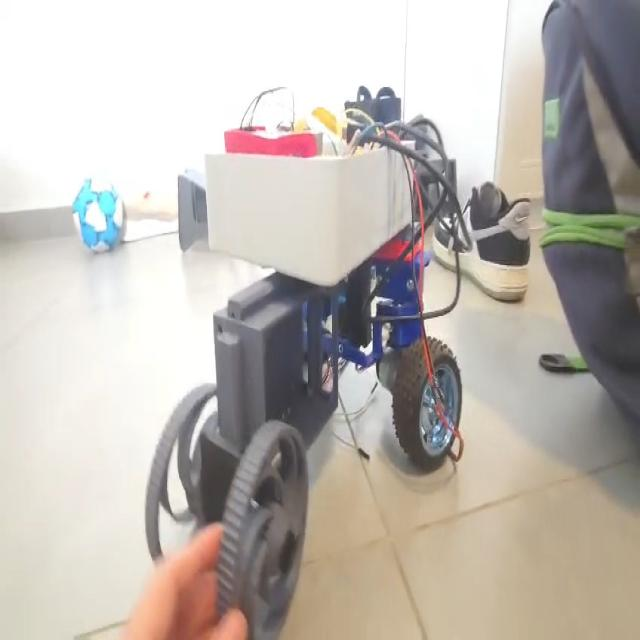Robot: (143, 82, 467, 634)
